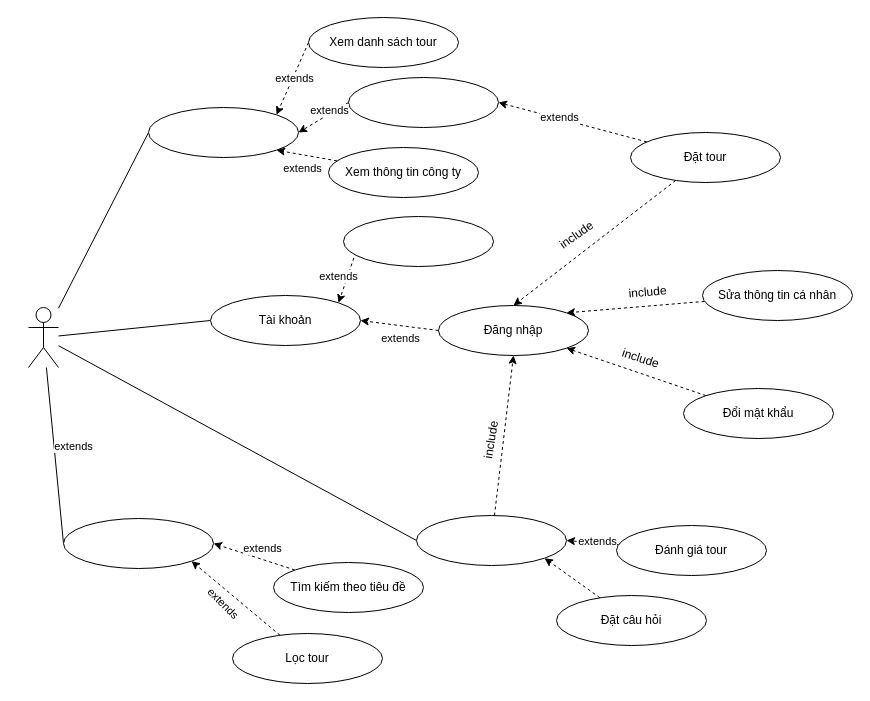
The diagram is 870 pixels wide and 701 high, and some of its shapes have lost their labels. Here are the shapes that lost their labels. From the top down, the box of each, then its label:
(348, 76, 498, 128): Xem chi tiết tour
(148, 106, 298, 158): Xem thông tin
(342, 216, 494, 266): Đăng ký
(28, 306, 58, 368): Customer
(62, 518, 214, 568): Tìm kiếm
(416, 514, 566, 566): Đánh giá
